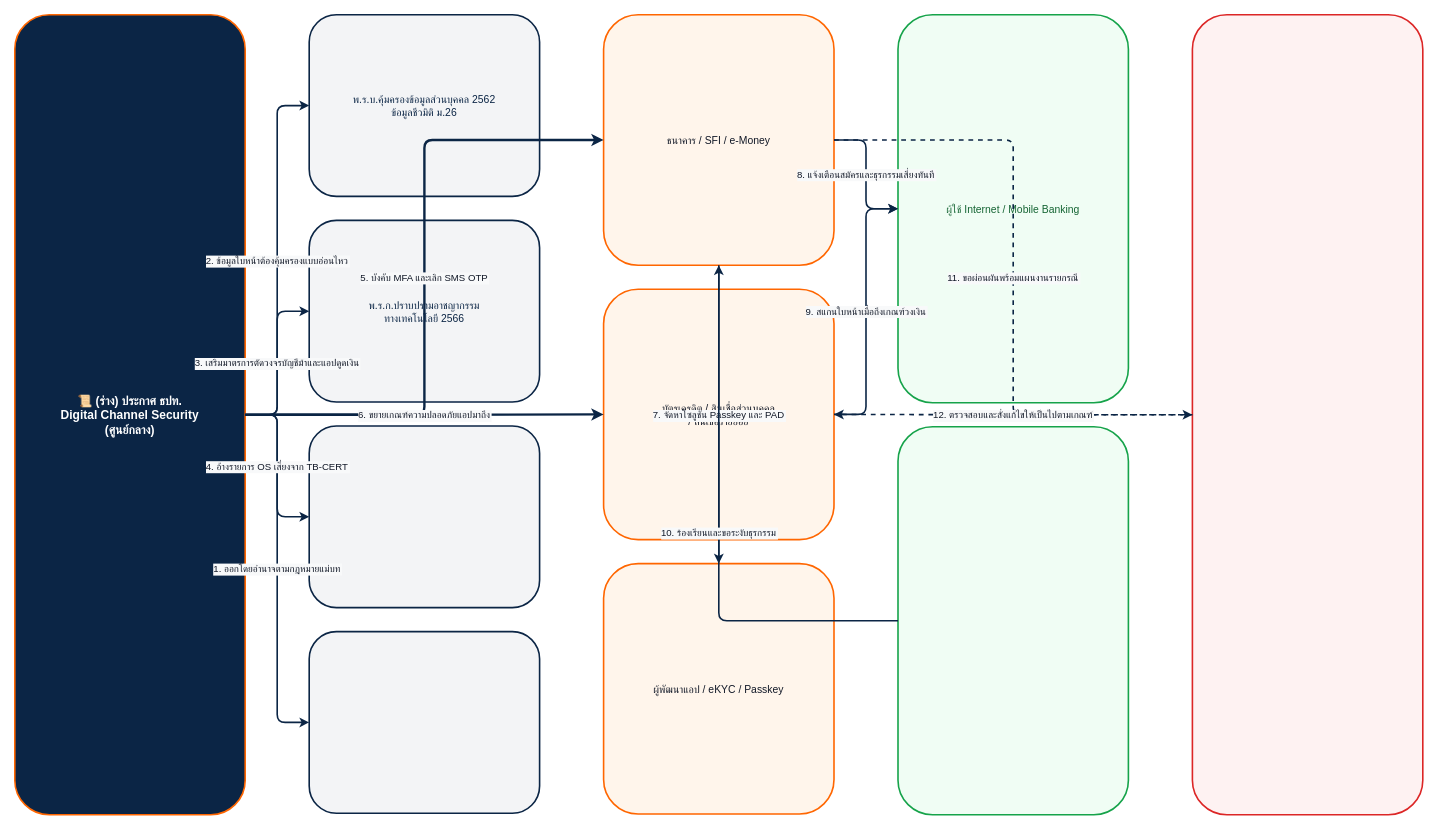
Some shapes in this 1437 by 829 pixel diagram are drawn without their labels. Here are the shapes that lost their labels. From the top down, the centre of each, then its label:
At (x=1307, y=414): "ธนาคารแห่งประเทศไทย ฝ่ายกำกับความเสี่ยง IT".
At (x=424, y=516): "พ.ร.บ.ไซเบอร์ 2562 และ TB-CERT".
At (x=1013, y=620): "ผู้เสียหายจากการสวมรอยทำธุรกรรม".
At (x=424, y=722): "พ.ร.บ.ธุรกิจสถาบันการเงิน 2551 / พ.ร.บ.ระบบการชำระเงิน 2560".
